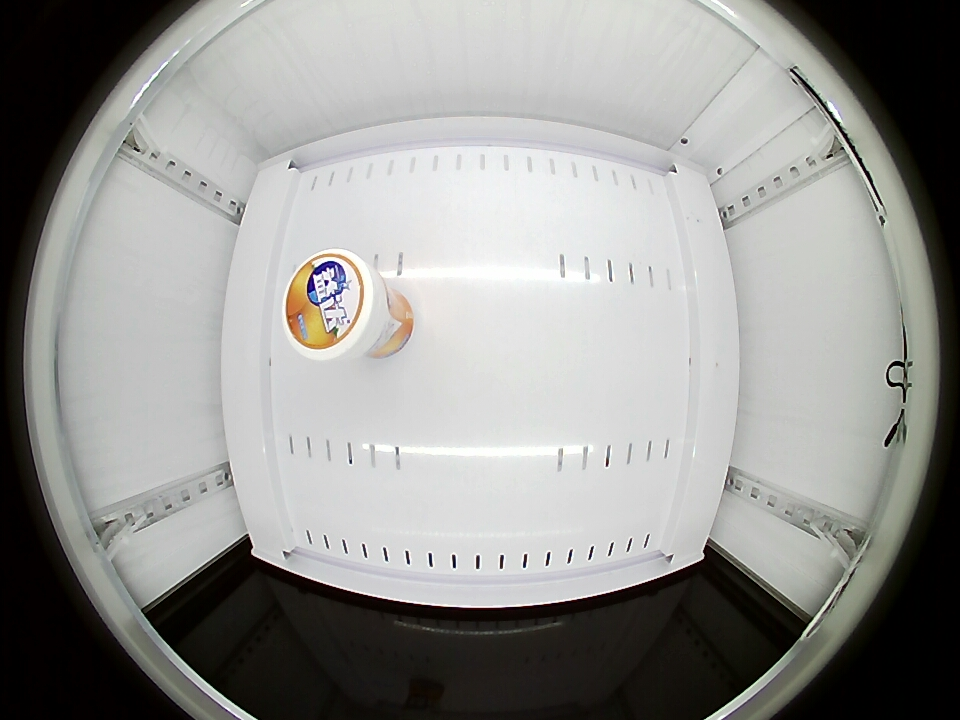yida: (283, 248, 391, 360)
